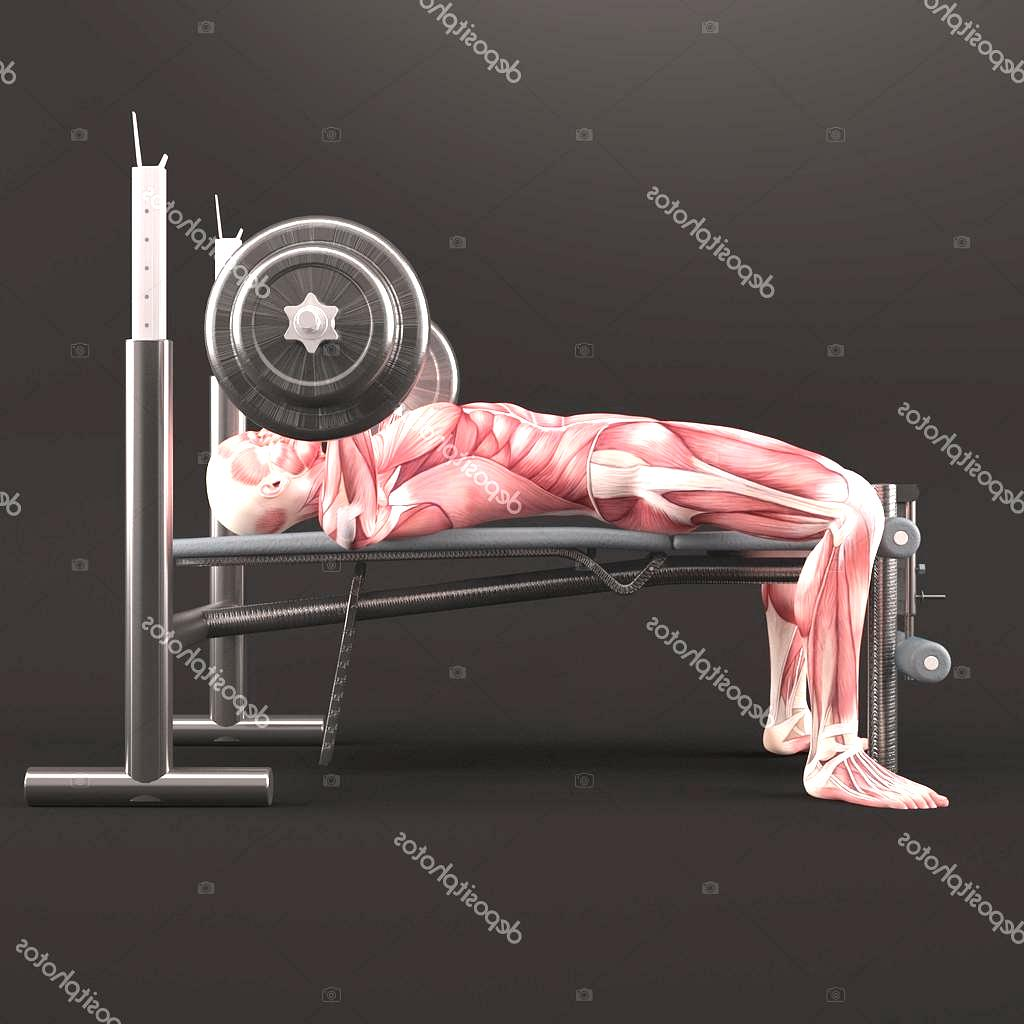Barbell: (286, 294, 336, 339)
